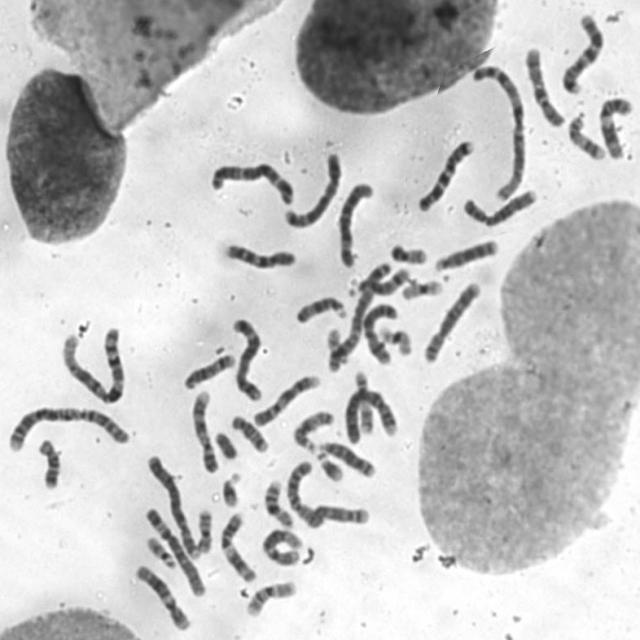A1: (470, 59, 529, 204), (58, 323, 128, 405)
A2: (283, 456, 373, 529), (3, 403, 134, 452)
A3: (326, 255, 396, 374), (206, 158, 297, 208)
B4: (144, 450, 201, 560), (340, 384, 400, 445)
B5: (280, 148, 345, 230), (229, 314, 264, 403)
C10: (522, 42, 567, 129), (220, 238, 298, 272)
C11: (217, 507, 259, 585), (596, 93, 634, 161)
C12: (132, 559, 194, 633), (259, 525, 304, 567)
C6: (142, 502, 208, 600), (334, 177, 377, 270)
C7: (414, 135, 477, 213), (557, 9, 606, 95)
C8: (420, 278, 484, 366), (458, 184, 540, 230)
C9: (250, 370, 322, 429), (187, 387, 221, 474)
D13: (431, 235, 502, 275), (316, 438, 377, 479)
D14: (180, 350, 237, 391), (346, 264, 412, 297)
D15: (289, 406, 336, 452), (292, 292, 349, 325)
E16: (243, 578, 297, 619), (260, 478, 296, 528)
E17: (564, 111, 608, 162), (352, 368, 375, 436)
E18: (227, 411, 270, 454), (35, 435, 62, 491)
F19: (374, 323, 414, 357), (398, 277, 445, 302)
F20: (193, 504, 215, 556), (387, 240, 428, 266)
G21: (314, 448, 346, 484), (218, 468, 244, 509)
G22: (142, 533, 178, 569), (322, 323, 348, 370)
X: (360, 300, 400, 366)
Y: (211, 427, 239, 461)
